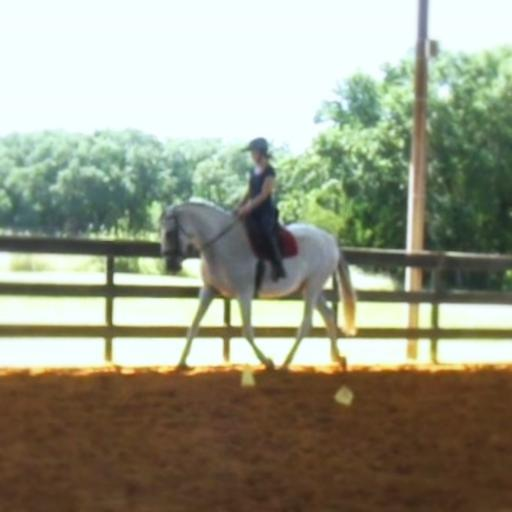horse: (158, 194, 357, 371)
